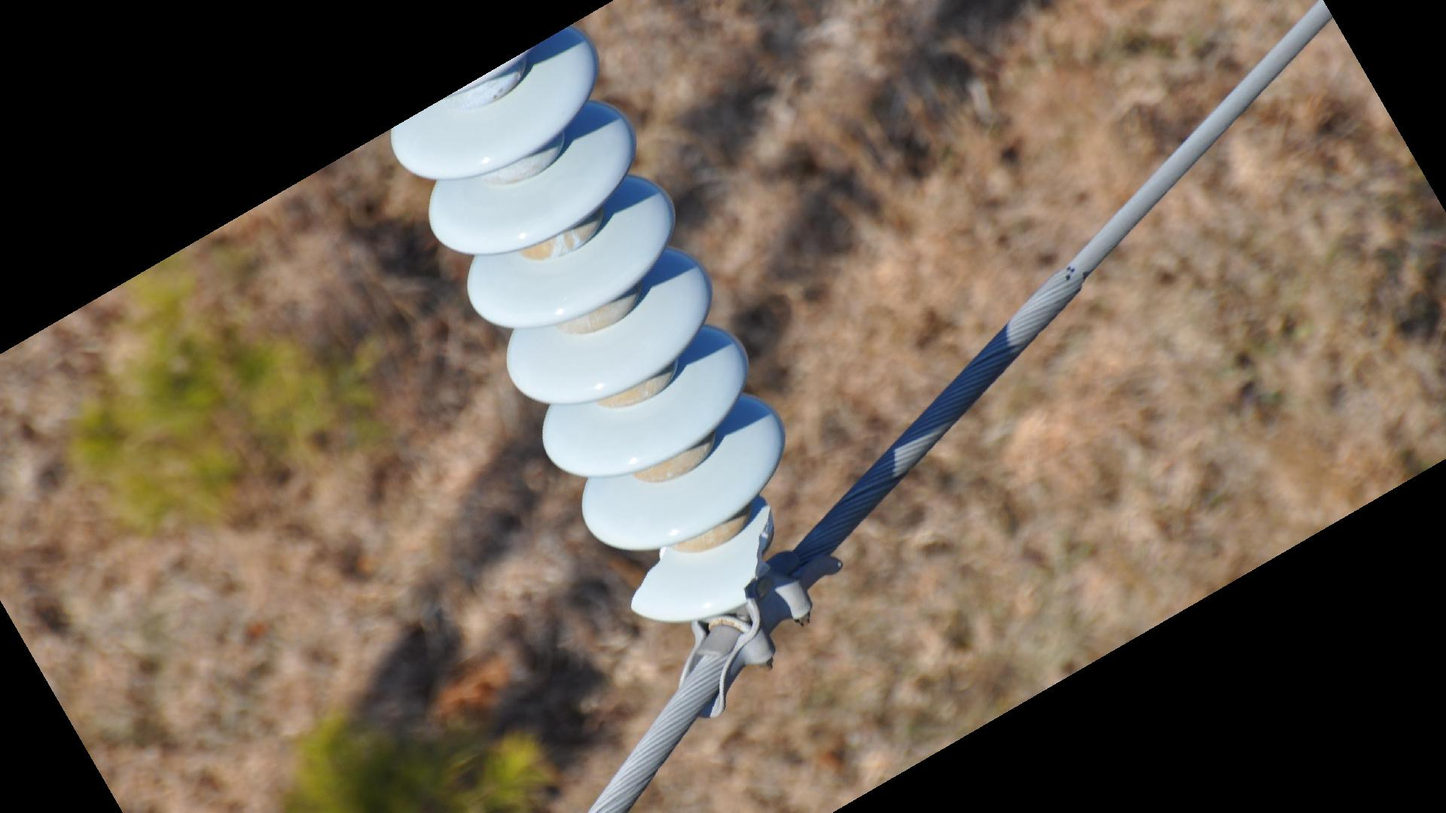insulator: (384, 24, 792, 632)
insulator_breakage: (734, 495, 778, 611), (622, 543, 671, 615)
